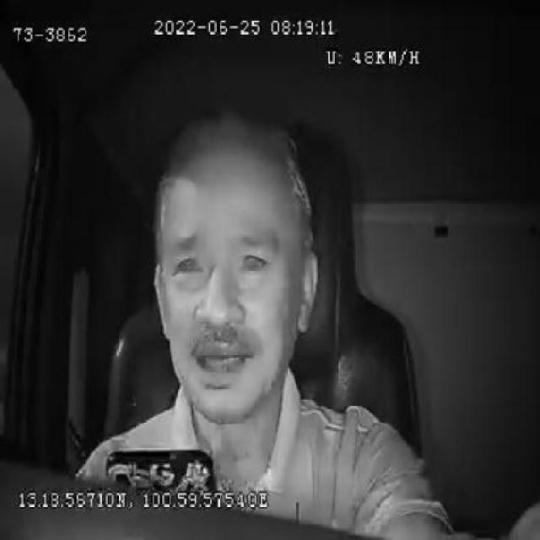phone: (102, 445, 217, 486)
